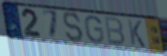2: (21, 8, 42, 39)
7: (41, 9, 60, 40)
B: (103, 15, 126, 47)
G: (83, 14, 105, 44)
K: (126, 18, 147, 49)
S: (62, 11, 85, 43)
